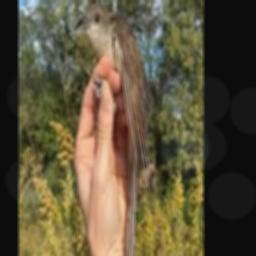Cuckoo: (75, 0, 151, 256)
